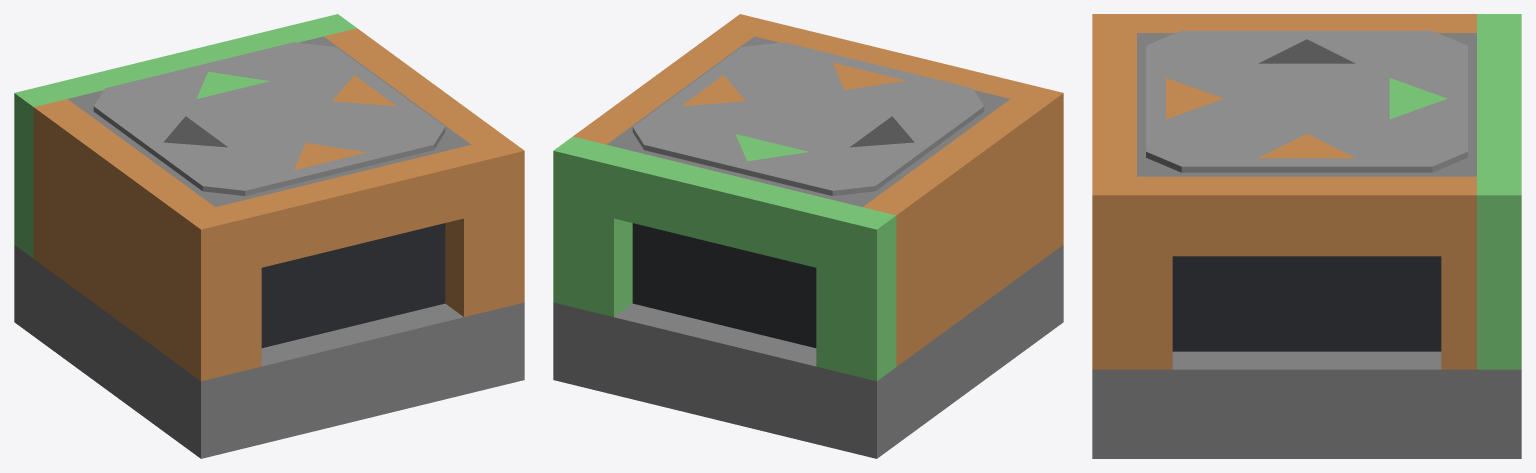
The model's file is vfef_merger2_r.obj.
The picture shows the model from 3 angles, left to right: view 1: azimuth 30°, elevation 25°; view 2: azimuth 150°, elevation 25°; view 3: azimuth 270°, elevation 25°; orthographic projection. The views are drawn at different scales.
Parts seen in each view (by area): view 1: vfef_merger2_r_0, vfef_merger2_r_19, vfef_merger2_r_14, vfef_merger2_r_13, vfef_merger2_r_12, vfef_merger2_r_15, vfef_merger2_r_11, vfef_merger2_r_17, vfef_merger2_r_10, vfef_merger2_r_8, vfef_merger2_r_16, vfef_merger2_r_4 (+9 smaller); view 2: vfef_merger2_r_0, vfef_merger2_r_19, vfef_merger2_r_14, vfef_merger2_r_5, vfef_merger2_r_4, vfef_merger2_r_16, vfef_merger2_r_3, vfef_merger2_r_18, vfef_merger2_r_2, vfef_merger2_r_8, vfef_merger2_r_15, vfef_merger2_r_12 (+9 smaller); view 3: vfef_merger2_r_0, vfef_merger2_r_19, vfef_merger2_r_9, vfef_merger2_r_8, vfef_merger2_r_17, vfef_merger2_r_18, vfef_merger2_r_6, vfef_merger2_r_7, vfef_merger2_r_14, vfef_merger2_r_4, vfef_merger2_r_12, vfef_merger2_r_1 (+9 smaller).
Part boxes in pixels (x1,y1,x2,y2): vfef_merger2_r_0: (14, 245, 524, 458); vfef_merger2_r_19: (93, 42, 445, 195); vfef_merger2_r_14: (33, 99, 214, 366); vfef_merger2_r_13: (261, 223, 445, 348); vfef_merger2_r_12: (243, 151, 463, 267); vfef_merger2_r_15: (181, 207, 234, 381); vfef_merger2_r_11: (445, 144, 490, 316); vfef_merger2_r_17: (472, 136, 524, 310); vfef_merger2_r_10: (215, 200, 261, 372); vfef_merger2_r_8: (339, 39, 488, 133); vfef_merger2_r_16: (14, 85, 66, 258); vfef_merger2_r_4: (75, 29, 294, 92); vfef_merger2_r_0: (553, 245, 1063, 458); vfef_merger2_r_19: (632, 42, 984, 195); vfef_merger2_r_14: (863, 99, 1044, 366); vfef_merger2_r_5: (632, 223, 816, 348); vfef_merger2_r_4: (614, 151, 834, 267); vfef_merger2_r_16: (843, 207, 896, 381); vfef_merger2_r_3: (587, 144, 632, 316); vfef_merger2_r_18: (553, 136, 605, 310); vfef_merger2_r_2: (816, 200, 862, 372); vfef_merger2_r_8: (589, 39, 738, 133); vfef_merger2_r_15: (1011, 85, 1063, 258); vfef_merger2_r_12: (783, 29, 1002, 92); vfef_merger2_r_0: (1092, 351, 1521, 458); vfef_merger2_r_19: (1146, 30, 1467, 172); vfef_merger2_r_9: (1172, 256, 1441, 351); vfef_merger2_r_8: (1172, 176, 1441, 256); vfef_merger2_r_17: (1092, 176, 1136, 369); vfef_merger2_r_18: (1477, 176, 1521, 369); vfef_merger2_r_6: (1137, 176, 1172, 369); vfef_merger2_r_7: (1441, 176, 1476, 369); vfef_merger2_r_14: (1137, 14, 1476, 32); vfef_merger2_r_4: (1477, 48, 1521, 161); vfef_merger2_r_12: (1092, 48, 1136, 161); vfef_merger2_r_1: (1137, 33, 1476, 176).
Bounding box in the file's own units: 0.96 × 0.665 × 0.96.
